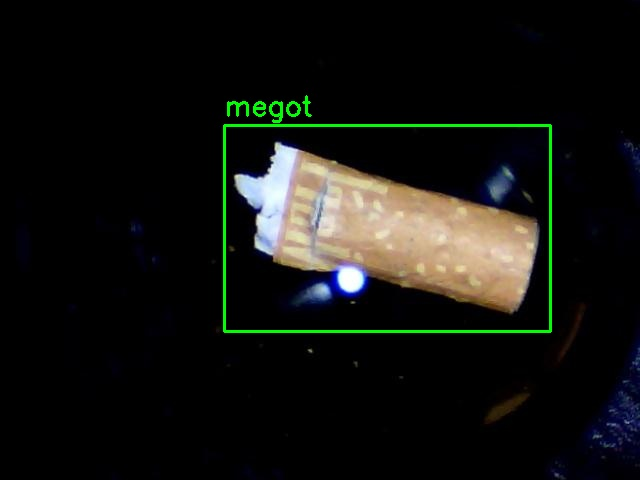megot: (224, 125, 550, 331)
